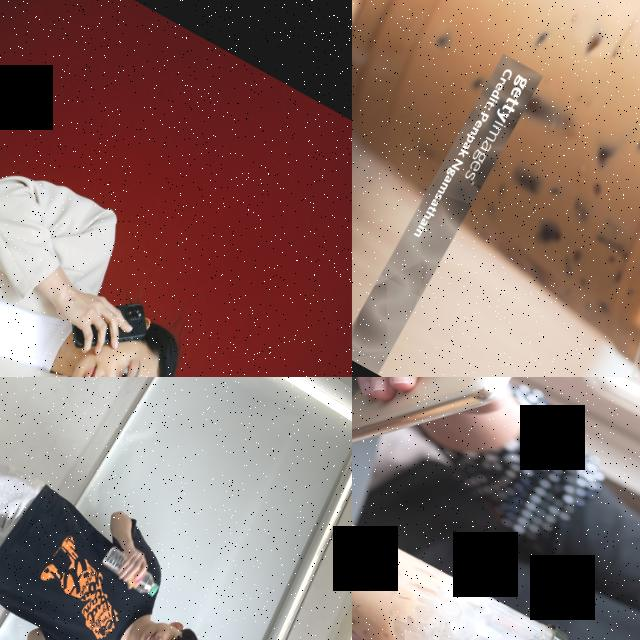bottle: (96, 544, 164, 600)
cup: (352, 0, 640, 377), (352, 488, 584, 640)
